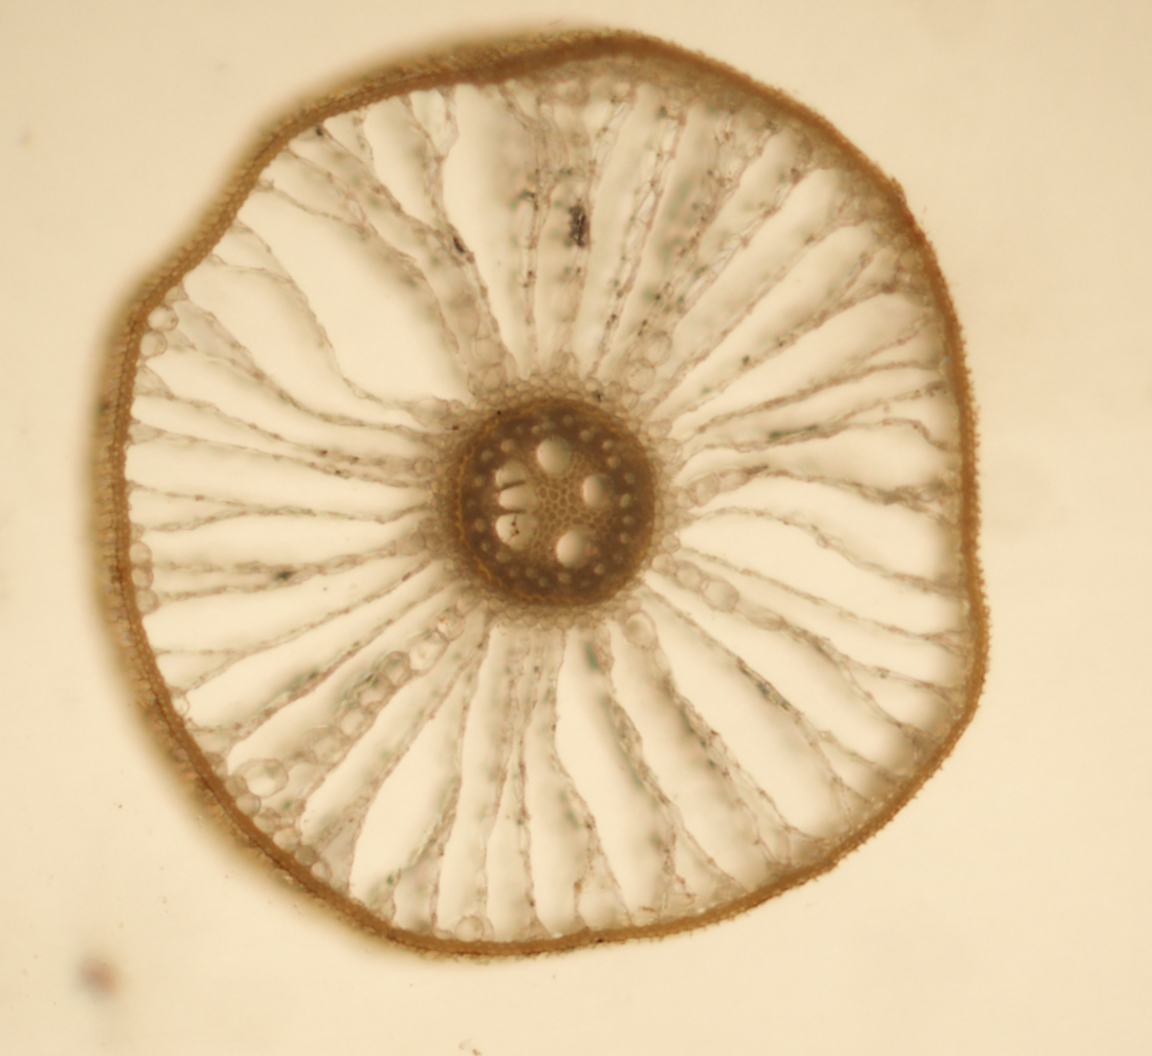lm: (494, 459, 539, 510), (536, 434, 574, 478), (555, 528, 595, 569), (495, 513, 539, 550), (582, 474, 615, 510)
